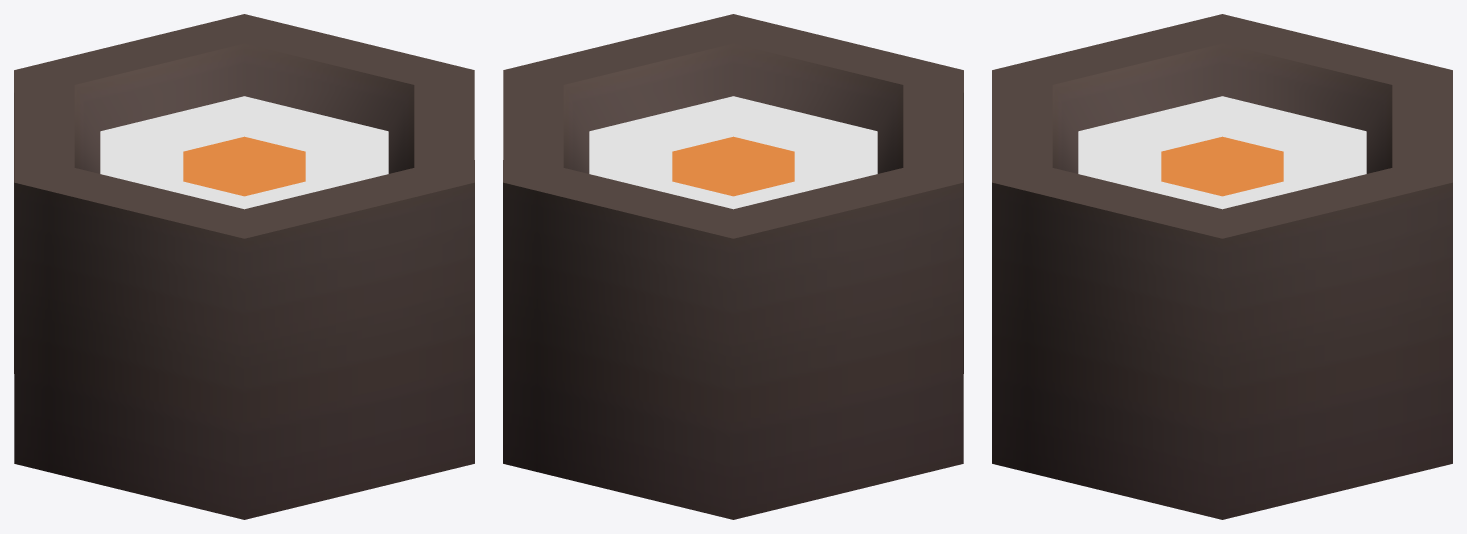
File: kenney-food-maki-salmon.glb
3 views of the same model, side by side, from view 1: azimuth 30°, elevation 25°; view 2: azimuth 150°, elevation 25°; view 3: azimuth 270°, elevation 25° (orthographic).
Visible parts, largest first — view 1: maki-salmon; view 2: maki-salmon; view 3: maki-salmon.
Boxes of the visible parts, bbox=[...] form: maki-salmon: bbox=[14, 14, 474, 519]; maki-salmon: bbox=[503, 14, 963, 519]; maki-salmon: bbox=[992, 14, 1452, 519].
Bounding box in the file's own units: 0.12 × 0.07 × 0.1039.
1 material, 1 textured.
